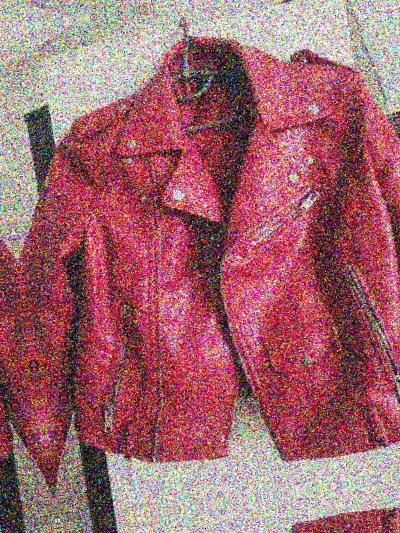Blazer: (0, 16, 400, 491), (0, 77, 52, 533), (64, 505, 400, 533), (390, 0, 400, 430)
